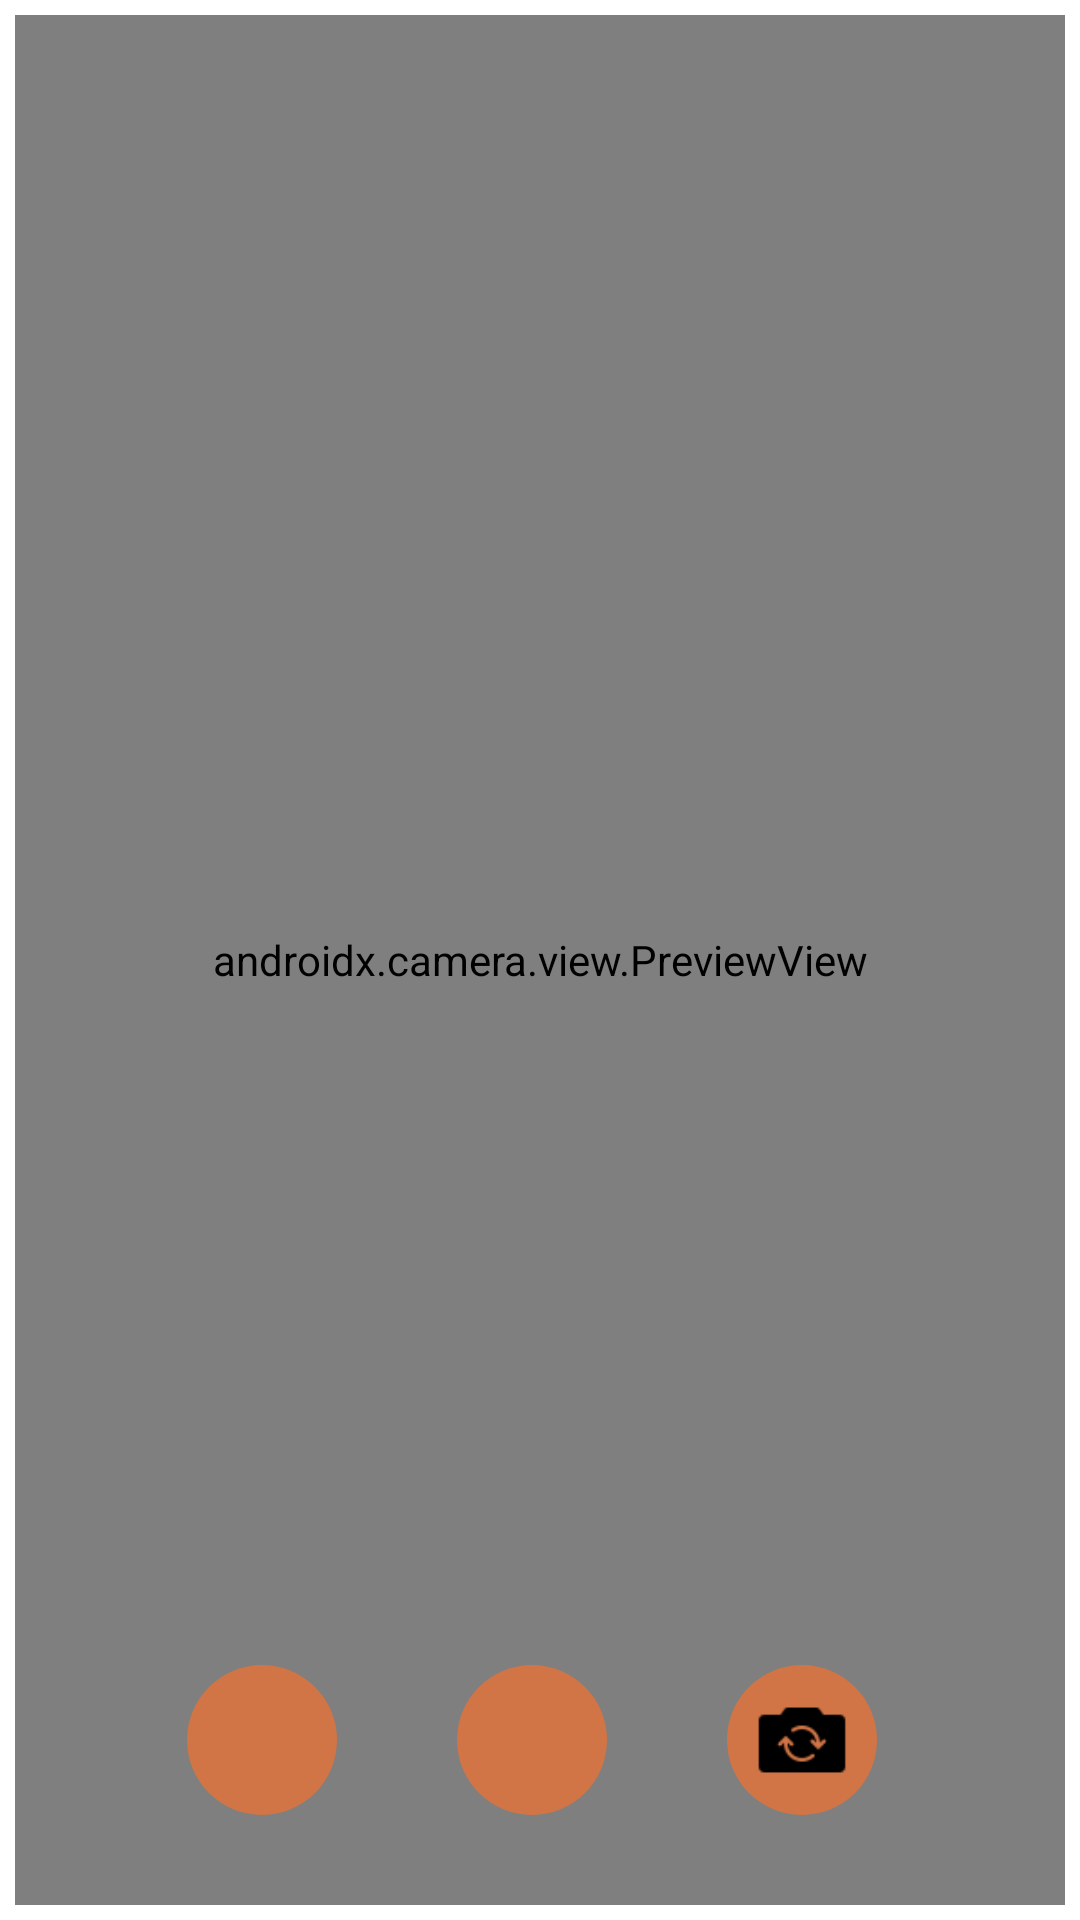

Icons on this 1080 x 1920 Android screen, each with the point to tap as (x=x, y=y):
switch camera: (x=802, y=1740)
